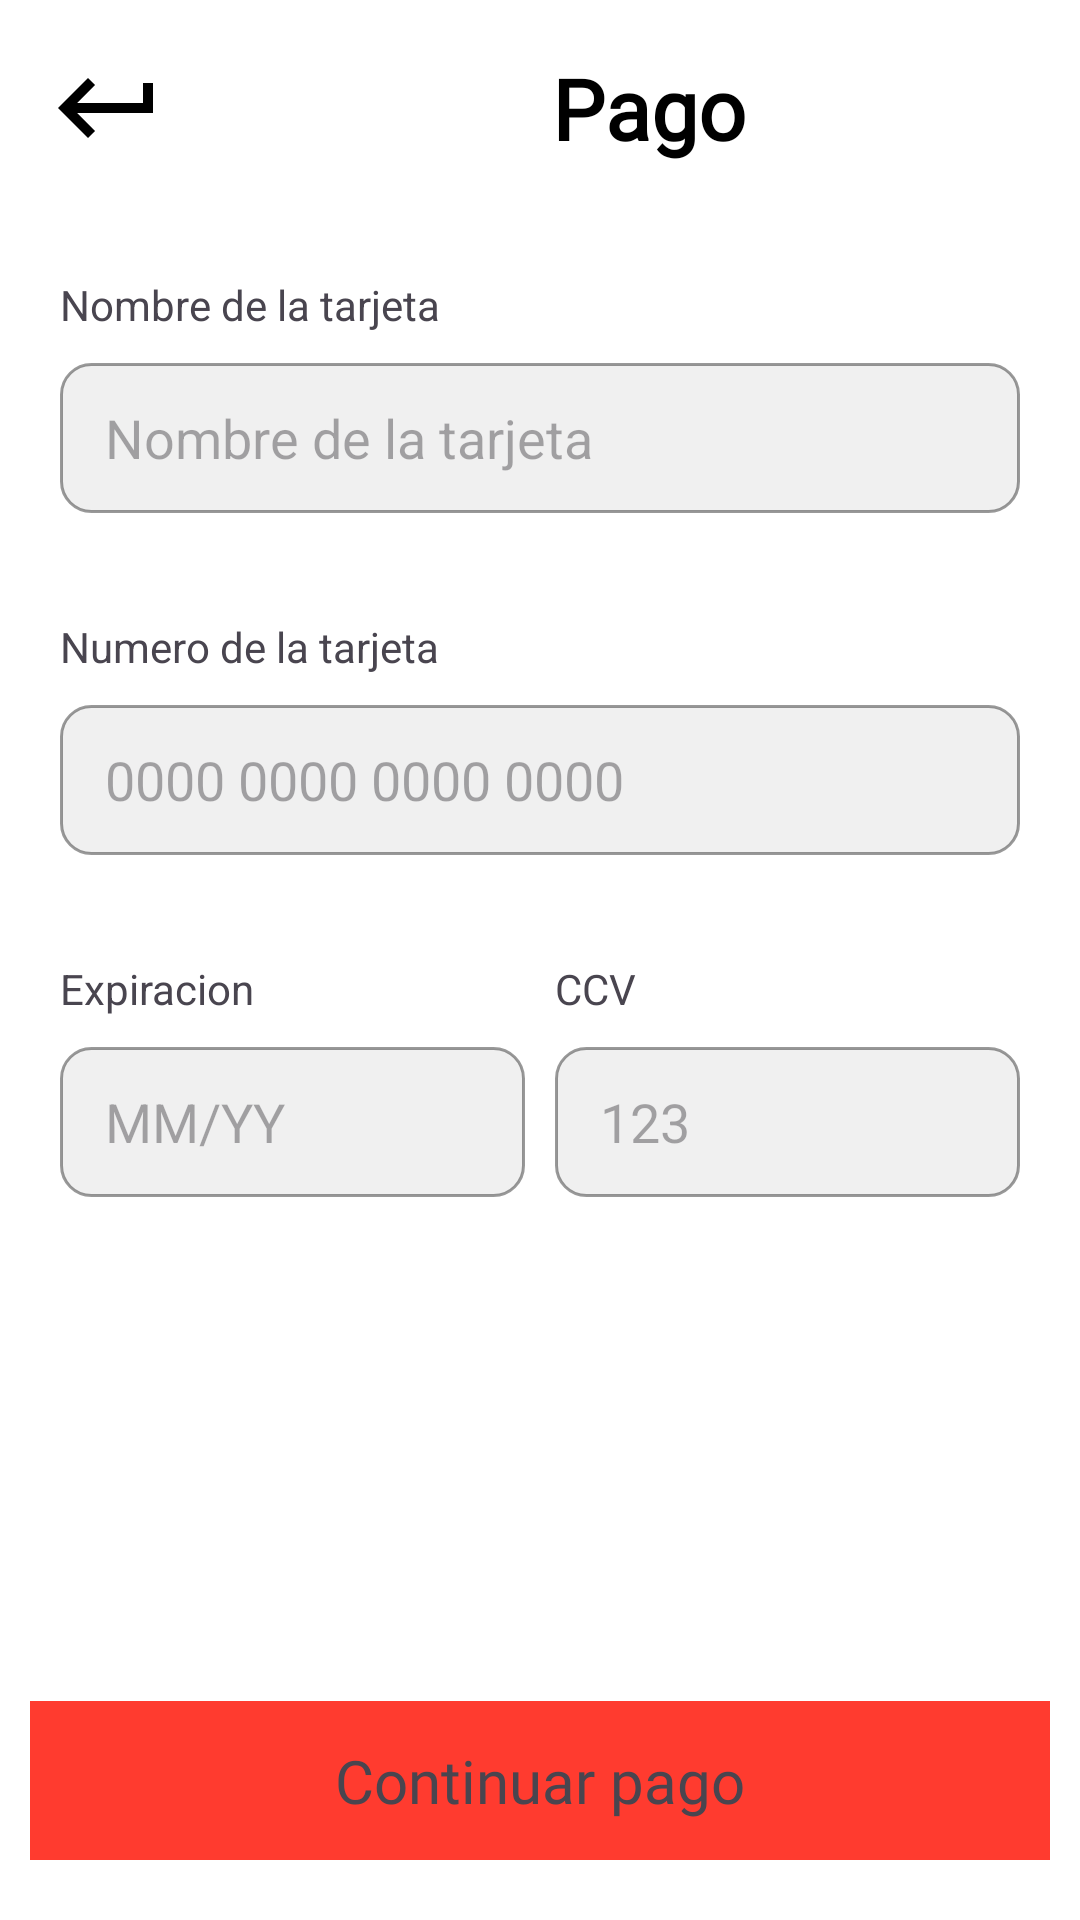

Named icons in this screenshot (1080px×1920px) and their bounding boxes, (x1, y1, x2, y2):
return: (58, 78, 153, 138)
